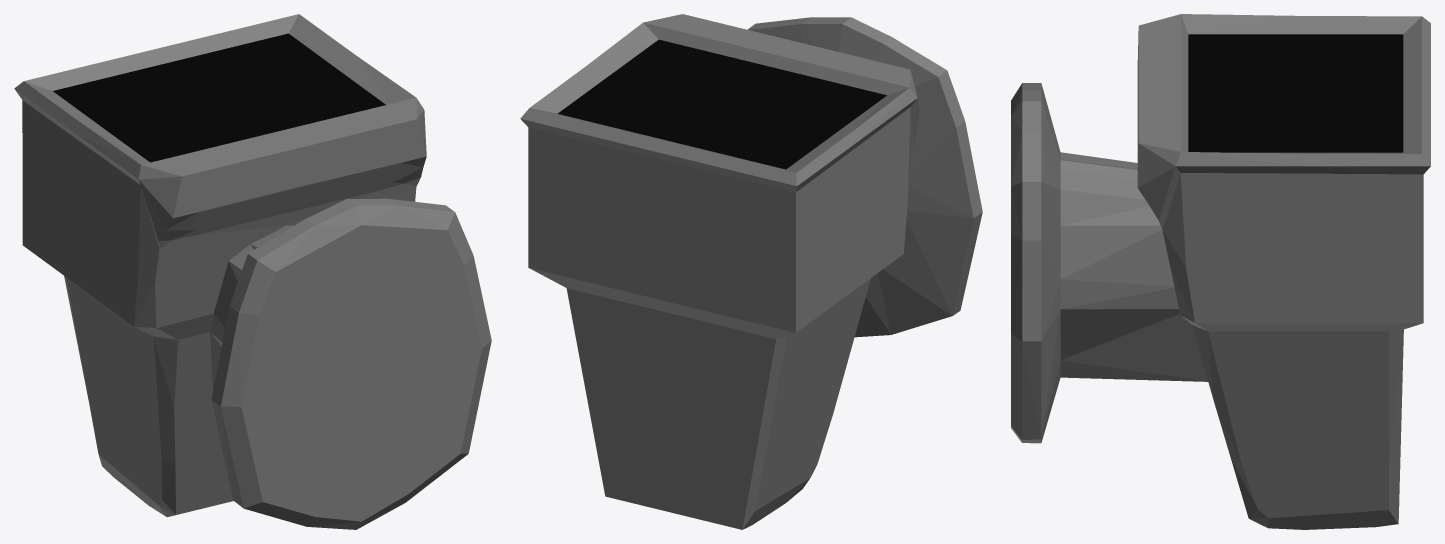
Rendered from crt-monitor.dae.
The picture shows the model from 3 angles, left to right: view 1: azimuth 30°, elevation 25°; view 2: azimuth 150°, elevation 25°; view 3: azimuth 270°, elevation 25°; orthographic projection. The views are drawn at different scales.
Parts seen in each view (by area): view 1: CRT-Monitor; view 2: CRT-Monitor; view 3: CRT-Monitor.
Part boxes in pixels (box(x1,y1,x2,y2)): CRT-Monitor: box(14, 14, 491, 529); CRT-Monitor: box(520, 14, 982, 529); CRT-Monitor: box(1011, 14, 1430, 529).
Size of the model in its own units: 1.86 by 2.3 by 2.49.
1 material, 1 textured.
